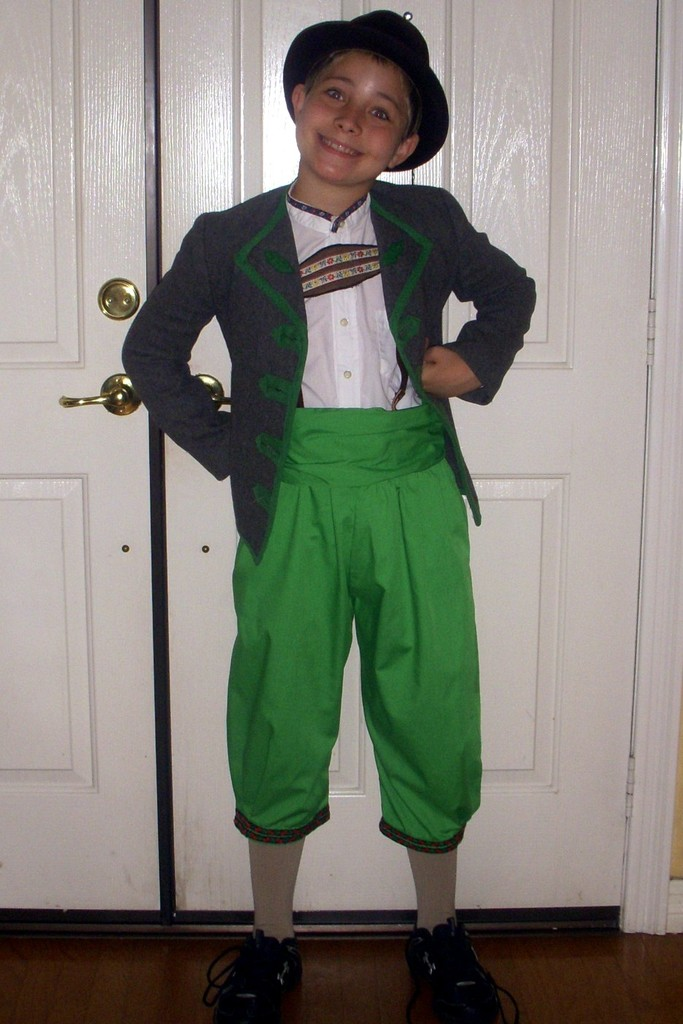door: (165, 7, 620, 880), (0, 10, 156, 905)
handle: (55, 380, 123, 430)
